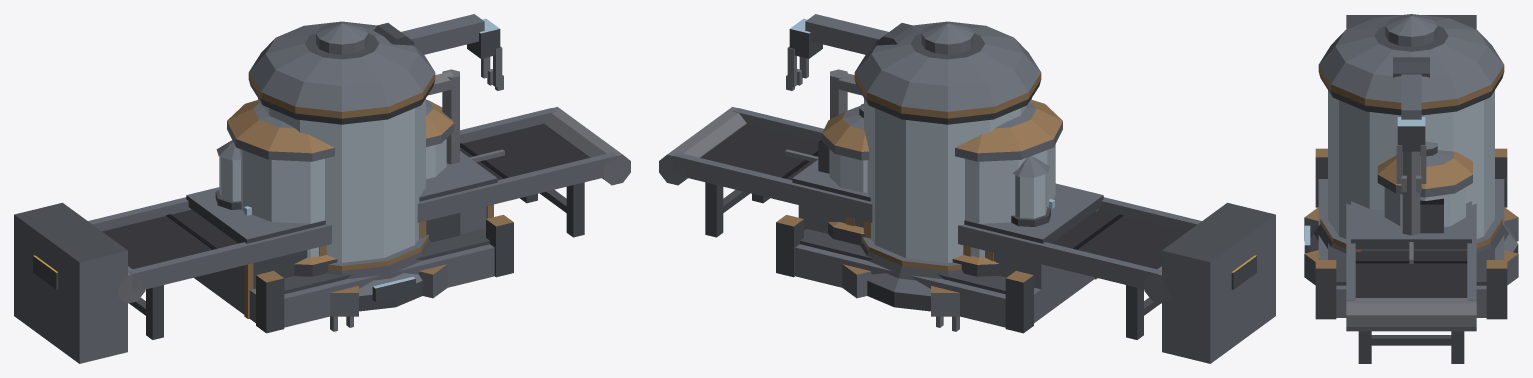
The model's file is lab_props_v1.glb.
3 views of the same model, side by side, from view 1: azimuth 30°, elevation 25°; view 2: azimuth 150°, elevation 25°; view 3: azimuth 270°, elevation 25° (orthographic).
Parts seen in each view (by area): view 1: conveyor, tank, pods, tank_glass, bench, pods_glass, arm_upper, bench_glass; view 2: conveyor, tank, pods, tank_glass, bench, pods_glass, arm_upper, bench_glass; view 3: tank, conveyor, tank_glass, pods, bench, arm_upper, pods_glass.
Boxes of the visible parts, x1,y1,x2,y2 form: conveyor: (14,107,630,363); tank: (248,21,459,316); pods: (194,99,513,333); tank_glass: (258,98,425,262); bench: (186,138,497,318); pods_glass: (239,139,446,257); arm_upper: (373,14,503,90); bench_glass: (219,156,240,201); conveyor: (659,107,1275,363); tank: (830,21,1041,316); pods: (776,100,1094,333); tank_glass: (864,98,1031,262); bench: (792,140,1103,317); pods_glass: (829,144,1055,257); arm_upper: (786,14,916,90); bench_glass: (1015,174,1047,218); tank: (1304,14,1518,285); conveyor: (1346,15,1476,363); tank_glass: (1328,90,1494,238); pods: (1315,141,1507,319); bench: (1351,198,1471,251); arm_upper: (1393,57,1429,192); pods_glass: (1384,187,1465,227).
Bounding box in the file's own units: 6.84 × 3.6 × 2.31.
